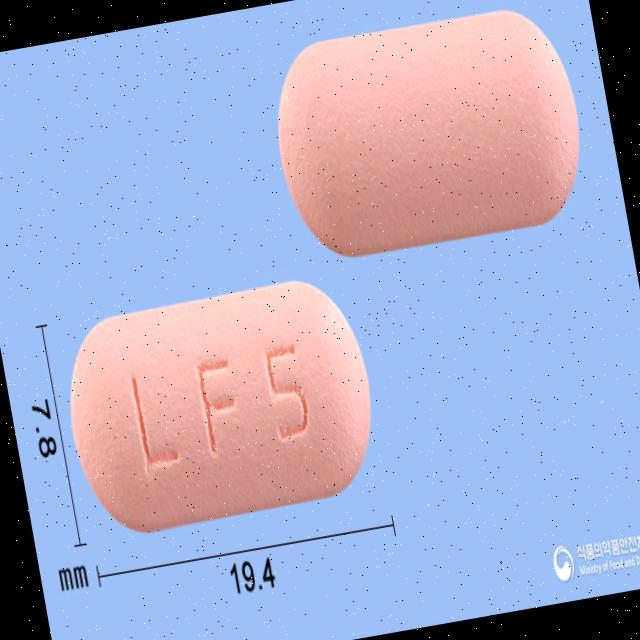Uropenta Tab: (54, 270, 388, 540), (262, 0, 597, 266)
